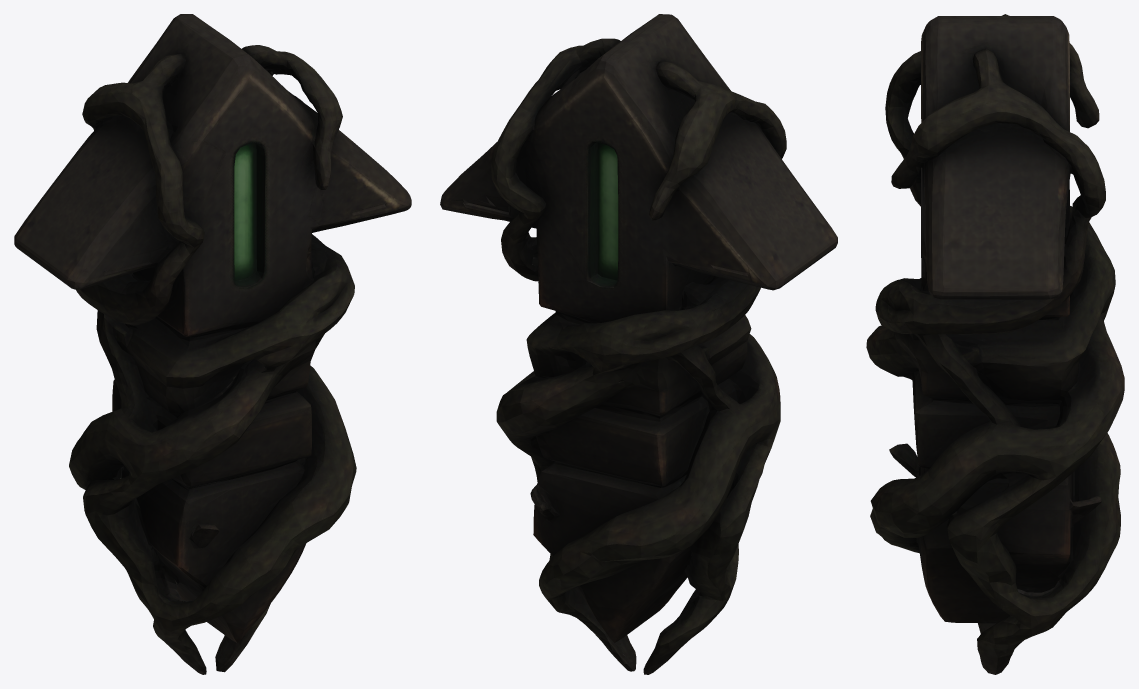
The model's file is b6b77313-6d53-44f5-aa13-dbb6c081efb9.glb.
The picture shows the model from 3 angles, left to right: view 1: azimuth 30°, elevation 25°; view 2: azimuth 150°, elevation 25°; view 3: azimuth 270°, elevation 25°; orthographic projection. The views are drawn at different scales.
Parts seen in each view (by area): view 1: world; view 2: world; view 3: world.
Boxes of the visible parts, box(x1,y1,x2,y2) form: world: box(14, 14, 411, 674); world: box(440, 14, 837, 674); world: box(866, 14, 1124, 674).
Size of the model in its own units: 0.5642 by 1 by 0.3592.
Materials: 1 (1 with a texture image).
